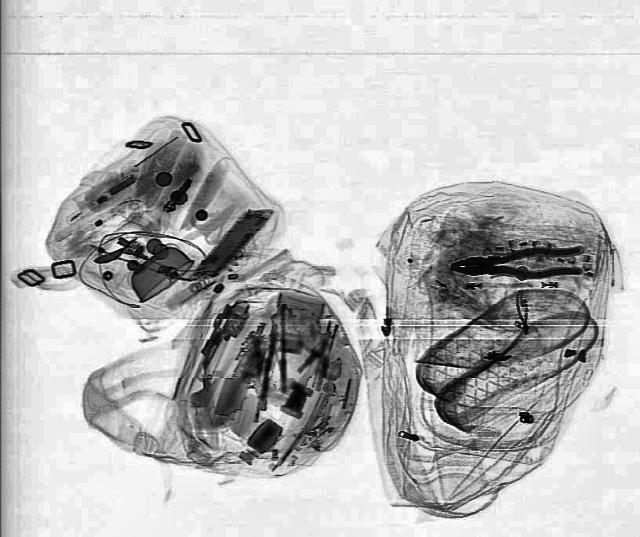Pliers: (450, 244, 582, 282)
